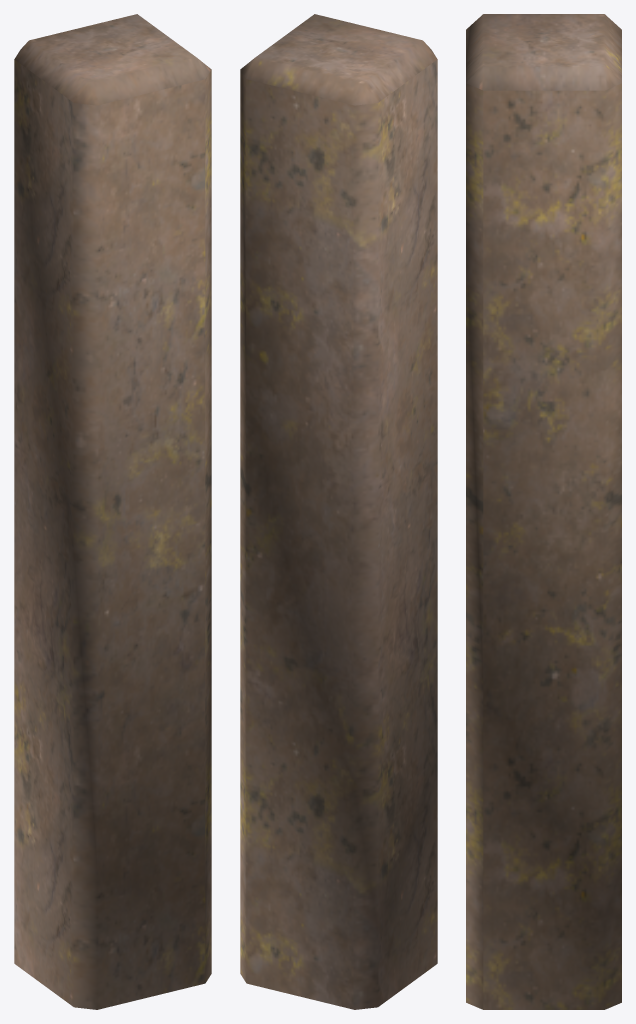
Rendered from pile04b.fbx.
3 views of the same model, side by side, from view 1: azimuth 30°, elevation 25°; view 2: azimuth 150°, elevation 25°; view 3: azimuth 270°, elevation 25° (orthographic).
Parts seen in each view (by area): view 1: pile04b; view 2: pile04b; view 3: pile04b.
Part boxes in pixels (box(x1,y1,x2,y2)): pile04b: box(14, 14, 211, 1009); pile04b: box(240, 14, 437, 1009); pile04b: box(466, 14, 621, 1009).
Size of the model in its own units: 18.86 by 120 by 18.18.
